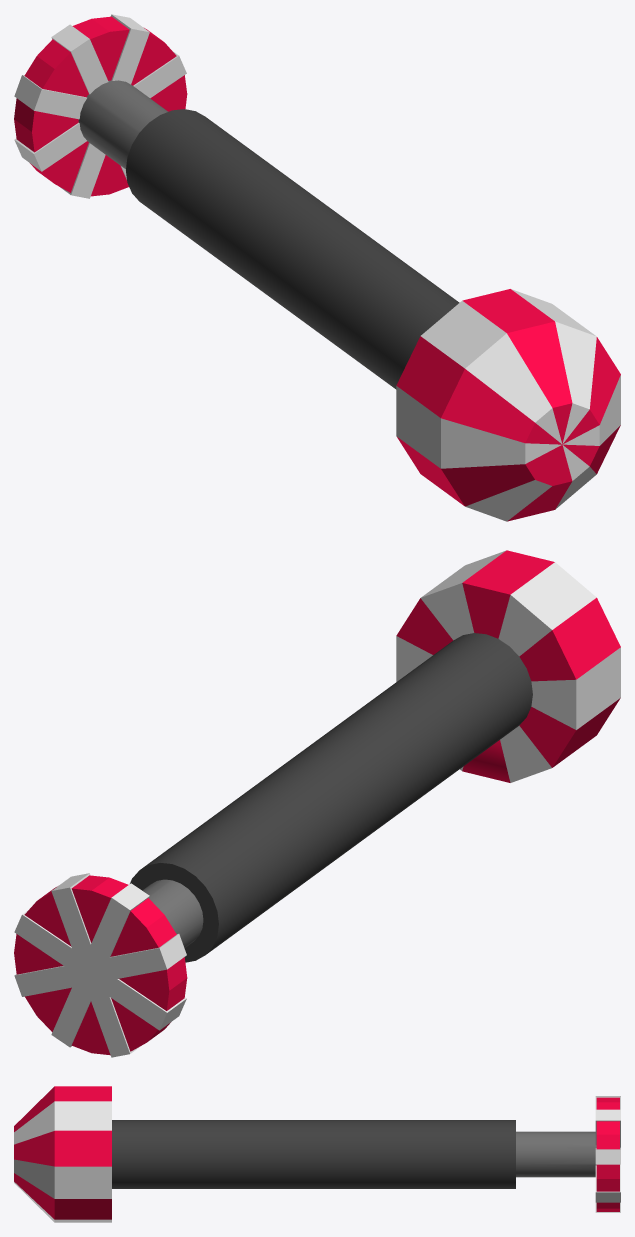
File: Plunger_0.fbx
The picture shows the model from 3 angles, top to bottom: view 1: azimuth 30°, elevation 25°; view 2: azimuth 150°, elevation 25°; view 3: azimuth 270°, elevation 25°; orthographic projection. The views are drawn at different scales.
Visible parts, largest first — view 1: Plunger_0; view 2: Plunger_0; view 3: Plunger_0.
Boxes of the visible parts, bbox=[...] form: Plunger_0: bbox=[14, 14, 620, 521]; Plunger_0: bbox=[14, 550, 620, 1057]; Plunger_0: bbox=[14, 1086, 620, 1222].
Size of the model in its own units: 11.59 by 11.59 by 52.59.
